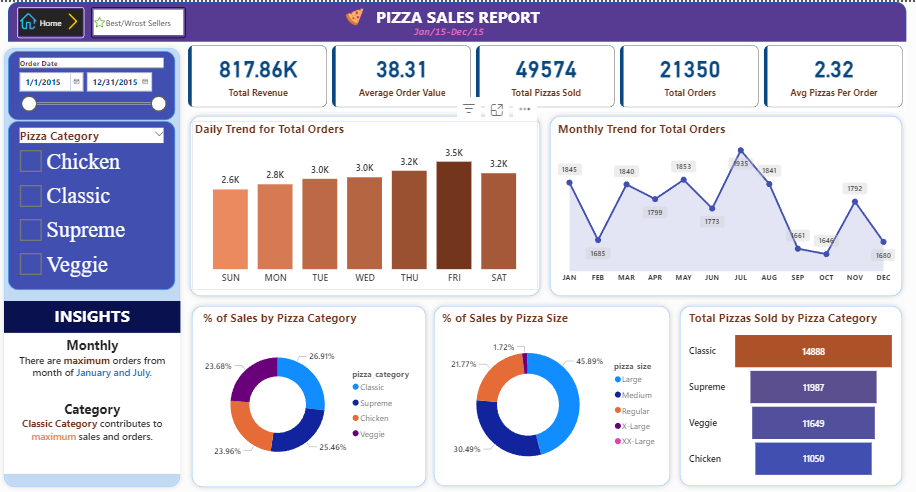

What the dashboard file says about the page in this screenshot:
{"tool":"powerbi","page":{"name":"Home","canvas":[1500,800],"ordinal":0},"visuals":[{"type":"cardVisual","fields":{"Data":["public pizzasales.Total Revenue","public pizzasales.Average Order Value","public pizzasales.Total Pizzas Sold","public pizzasales.Total Orders","public pizzasales.Avg Pizzas Per Order"]},"box":[303.7,65.3,1178.8,112.7],"z":0},{"type":"shape","box":[15,0,1466.7,65],"z":1000},{"type":"textbox","box":[605.7,0,287.3,47.3],"z":2000},{"type":"textbox","box":[644.9,34.3,178,32.7],"z":3000},{"type":"image","box":[542,4.9,76.7,39.2],"z":4000},{"type":"shape","box":[303.7,178,587.8,310.2],"z":5000},{"type":"columnChart","title":"Daily Trend for Total Orders","fields":{"Y":["public pizzasales.Total Orders"],"Category":["public pizzasales.Order day"]},"box":[315.1,194.3,564.9,275.9],"z":6000},{"type":"shape","box":[891.4,178,591,310.2],"z":7000},{"type":"areaChart","title":"Monthly Trend for Total Orders","fields":{"Y":["public pizzasales.Total Orders"],"Category":["public pizzasales.Order Month"]},"box":[907.8,194.3,560,274.3],"z":8000},{"type":"shape","box":[306.9,488.2,398.4,311.8],"z":9000},{"type":"shape","box":[702,488.2,401.6,310.2],"z":10000},{"type":"shape","box":[1103.7,488.2,378.8,310.2],"z":11000},{"type":"donutChart","title":"% of Sales by Pizza Category","fields":{"Category":["public pizzasales.pizza_category"],"Y":["public pizzasales.Total Revenue"]},"box":[328.2,502.9,362.4,284.1],"z":12000},{"type":"donutChart","title":"% of Sales by Pizza Size","fields":{"Y":["public pizzasales.Total Revenue"],"Category":["public pizzasales.pizza_size"]},"box":[718.4,502.9,370.6,284.1],"z":13000},{"type":"funnel","title":"Total Pizzas Sold by Pizza Category","fields":{"Category":["public pizzasales.pizza_category"],"Y":["public pizzasales.Total Pizzas Sold"]},"box":[1121.6,502.9,346.1,284.1],"z":14000},{"type":"shape","box":[0,66.9,303.7,733.1],"z":15000},{"type":"slicer","fields":{"Values":["public pizzasales.pizza_category"]},"box":[14.7,194.3,272.7,275.9],"z":16000},{"type":"slicer","fields":{"Values":["public pizzasales.order_date"]},"box":[14.9,80.6,273.1,113.4],"z":17000},{"type":"textbox","box":[7.5,488.1,288.1,52.2],"z":18000},{"type":"textbox","box":[7.5,540.3,288.1,229.9],"z":19000},{"type":"pageNavigator","box":[29.9,7.5,110.4,50.7],"z":20000},{"type":"pageNavigator","box":[150.7,9,155.2,50.7],"z":21000},{"type":"image","box":[29.9,10.4,37.3,43.3],"z":21001},{"type":"image","box":[101.5,13.4,38.8,37.3],"z":21002},{"type":"image","box":[150.7,10.4,28.4,46.3],"z":21003}]}

Visuals, with their boxes in screenshot pixels (x1, y1, x2, y2), scaled from the page's 1500x800 canvas onto the 916x492 screenshot:
cardVisual - public pizzasales.Total Revenue x public pizzasales.Average Order Value: left=185, top=40, right=905, bottom=109
shape: left=9, top=0, right=905, bottom=40
textbox: left=370, top=0, right=545, bottom=29
textbox: left=394, top=21, right=503, bottom=41
image: left=331, top=3, right=378, bottom=27
shape: left=185, top=109, right=544, bottom=300
"Daily Trend for Total Orders" columnChart: left=192, top=119, right=537, bottom=289
shape: left=544, top=109, right=905, bottom=300
"Monthly Trend for Total Orders" areaChart: left=554, top=119, right=896, bottom=288
shape: left=187, top=300, right=431, bottom=491
shape: left=429, top=300, right=674, bottom=491
shape: left=674, top=300, right=905, bottom=491
"% of Sales by Pizza Category" donutChart: left=200, top=309, right=422, bottom=484
"% of Sales by Pizza Size" donutChart: left=439, top=309, right=665, bottom=484
"Total Pizzas Sold by Pizza Category" funnel: left=685, top=309, right=896, bottom=484
shape: left=0, top=41, right=185, bottom=491
slicer - public pizzasales.pizza_category: left=9, top=119, right=176, bottom=289
slicer - public pizzasales.order_date: left=9, top=50, right=176, bottom=119
textbox: left=5, top=300, right=181, bottom=332
textbox: left=5, top=332, right=181, bottom=474
pageNavigator: left=18, top=5, right=86, bottom=36
pageNavigator: left=92, top=6, right=187, bottom=37
image: left=18, top=6, right=41, bottom=33
image: left=62, top=8, right=86, bottom=31
image: left=92, top=6, right=109, bottom=35
